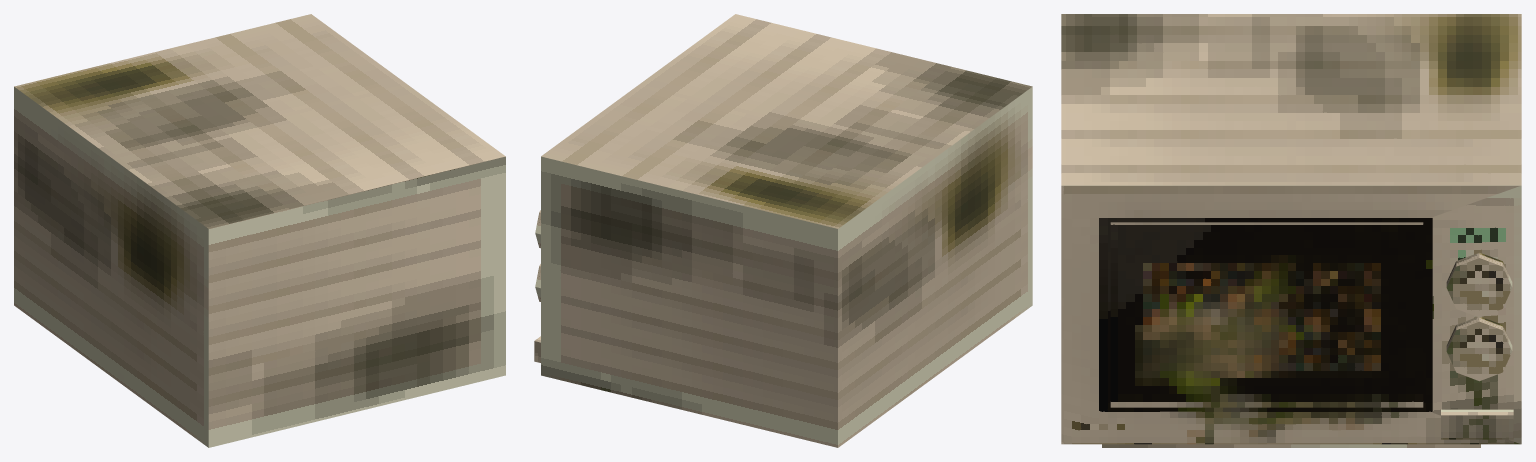
The model's file is psx-microwave.glb.
The picture shows the model from 3 angles, left to right: view 1: azimuth 30°, elevation 25°; view 2: azimuth 150°, elevation 25°; view 3: azimuth 270°, elevation 25°; orthographic projection. The views are drawn at different scales.
Parts seen in each view (by area): view 1: mw-body; view 2: mw-body; view 3: mw-body, mw-door.
Part boxes in pixels (<box>): mw-body: <box>14,14,505,447</box>; mw-body: <box>534,14,1032,447</box>; mw-body: <box>1061,14,1521,447</box>; mw-door: <box>1101,217,1432,412</box>.
Size of the model in its own units: 1.82 by 1.33 by 2.
1 material, 1 textured.
